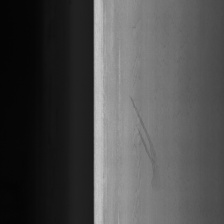water_spot: (126, 87, 167, 197)
